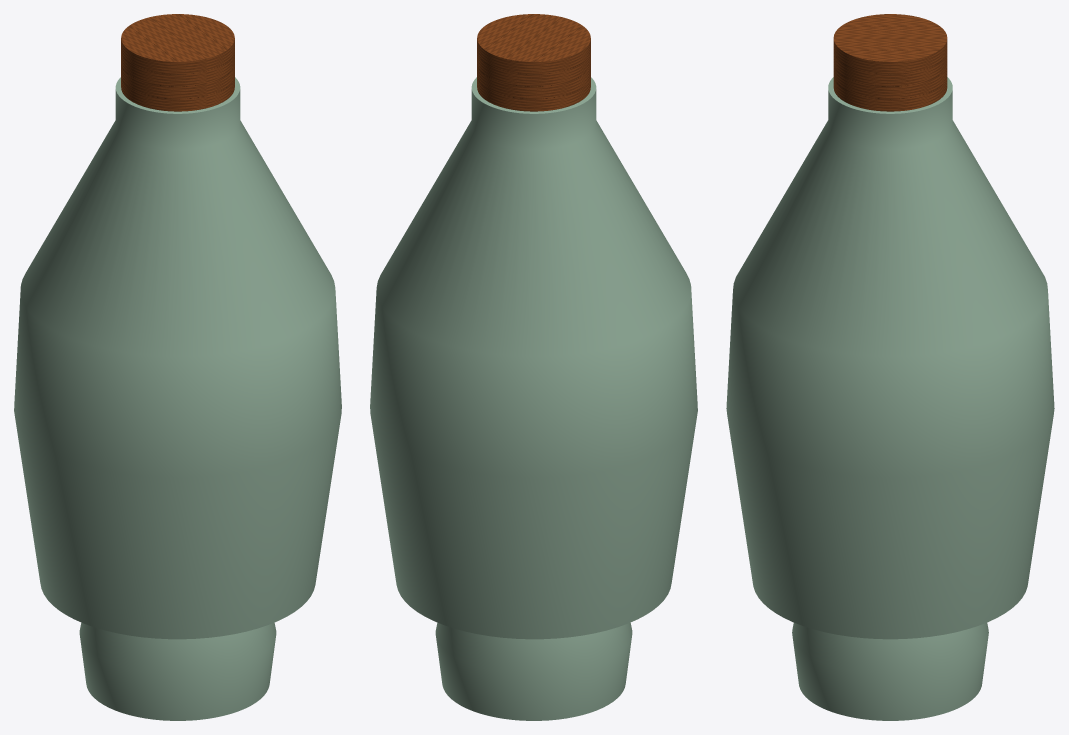
Rendered from ceramics-pottery-studio-oil-bottle-67ea59a1__29520.glb.
The picture shows the model from 3 angles, left to right: view 1: azimuth 30°, elevation 25°; view 2: azimuth 150°, elevation 25°; view 3: azimuth 270°, elevation 25°; orthographic projection.
Parts seen in each view (by area): view 1: oil-bottle; view 2: oil-bottle; view 3: oil-bottle.
Boxes of the visible parts, x1=… form: oil-bottle: x1=14, y1=14, x2=341, y2=720; oil-bottle: x1=370, y1=14, x2=697, y2=720; oil-bottle: x1=726, y1=14, x2=1054, y2=720.
Bounding box in the file's own units: 0.15 × 0.325 × 0.15.
Materials: 2 (1 with a texture image).
